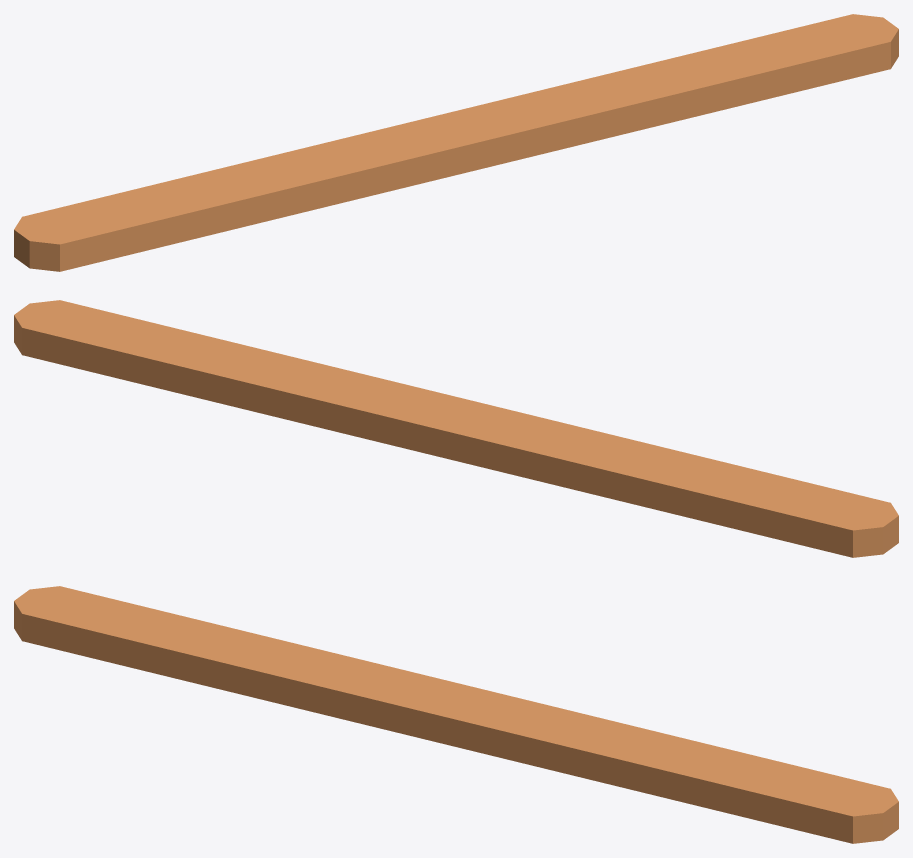
The model's file is stir.fbx.
The picture shows the model from 3 angles, top to bottom: view 1: azimuth 30°, elevation 25°; view 2: azimuth 150°, elevation 25°; view 3: azimuth 330°, elevation 25°; orthographic projection.
Parts seen in each view (by area): view 1: stir; view 2: stir; view 3: stir.
Part boxes in pixels (x1,y1,x2,y2): stir: (14, 14, 898, 271); stir: (14, 300, 898, 557); stir: (14, 586, 898, 843).
Size of the model in its own units: 1433 by 108 by 43.11.
